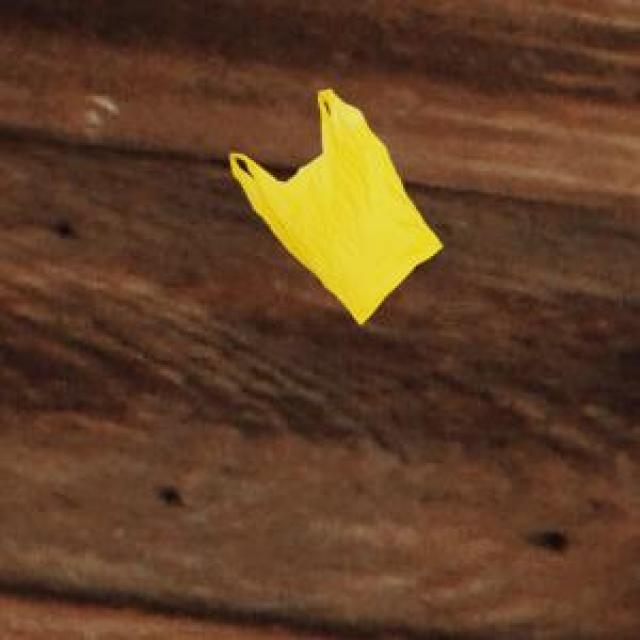plastic: (211, 81, 507, 337)
